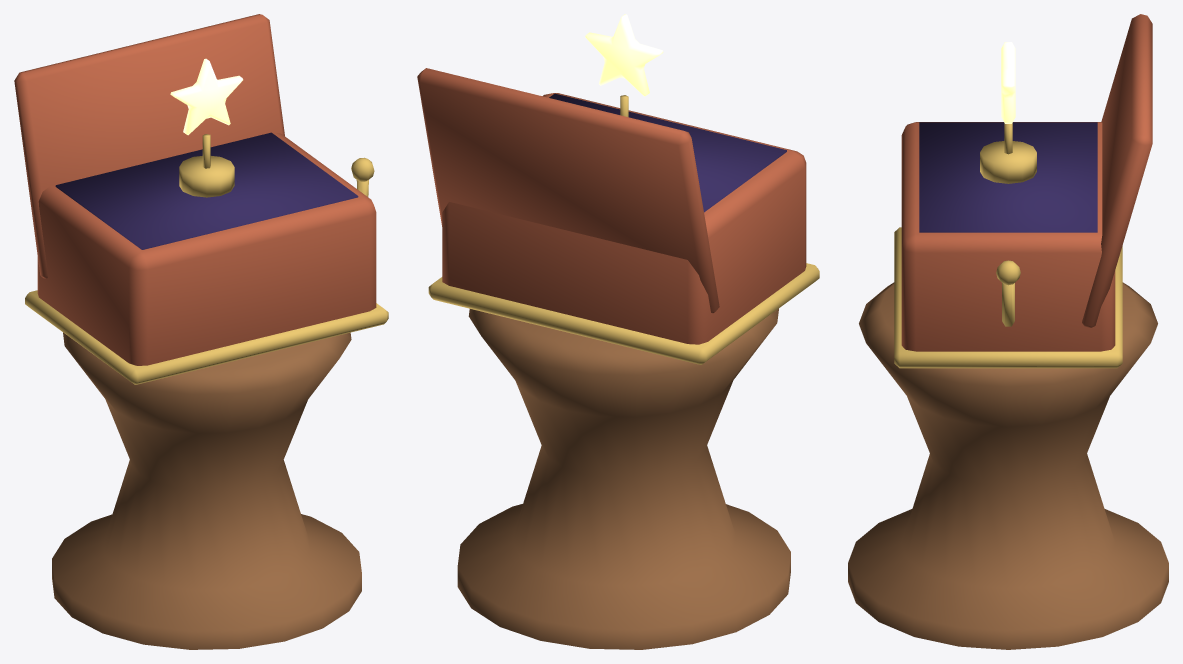
The model's file is music_box.glb.
The picture shows the model from 3 angles, left to right: view 1: azimuth 30°, elevation 25°; view 2: azimuth 150°, elevation 25°; view 3: azimuth 270°, elevation 25°; orthographic projection. The views are drawn at different scales.
Visible parts, largest first — view 1: music_box:mesh; view 2: music_box:mesh; view 3: music_box:mesh.
Boxes of the visible parts, x1,y1,x2,y2 form: music_box:mesh: (14,14,388,649); music_box:mesh: (417,14,819,649); music_box:mesh: (848,14,1168,649).
Bounding box in the file's own units: 1 × 1.67 × 0.9.
